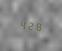eight: (35, 20, 42, 31)
four: (18, 18, 25, 30)
two: (27, 19, 34, 31)
